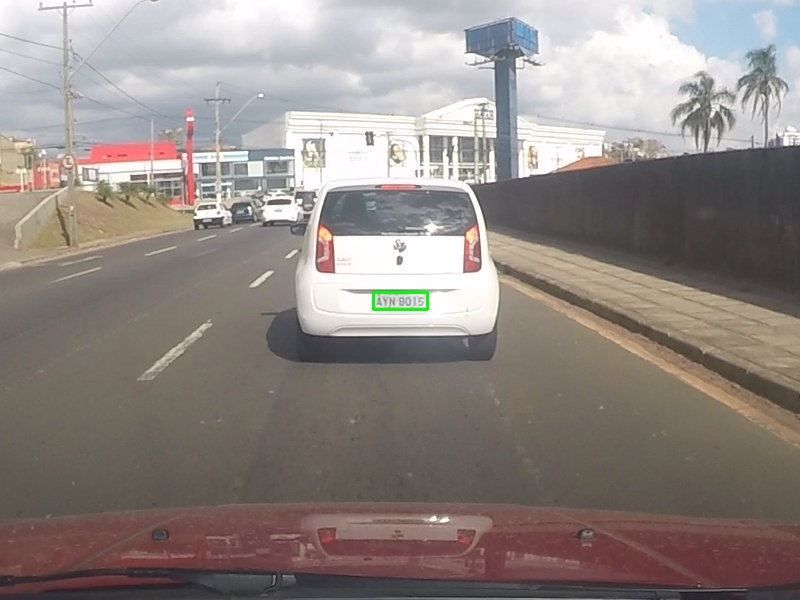placa: (373, 292, 427, 309)
